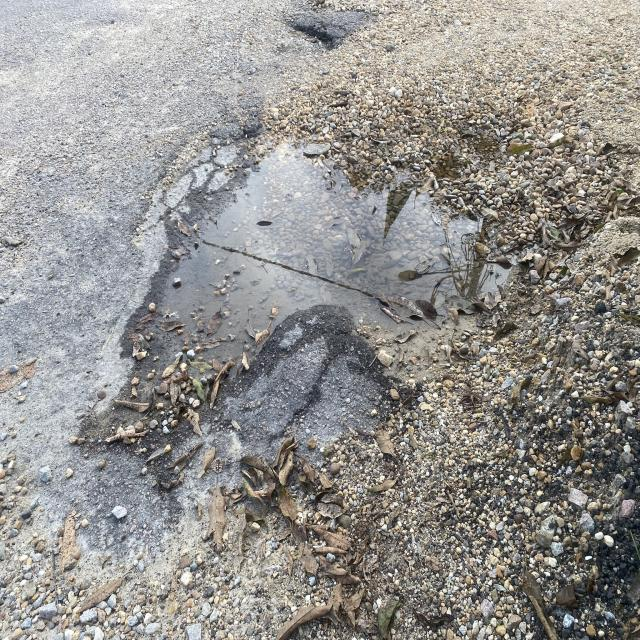pothole: (115, 98, 446, 493)
